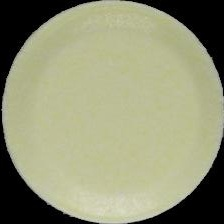64725-1324: (0, 0, 224, 224)
